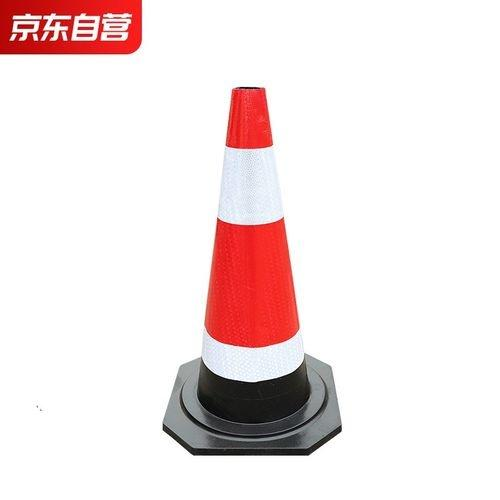cone_barrel: (167, 92, 334, 441)
